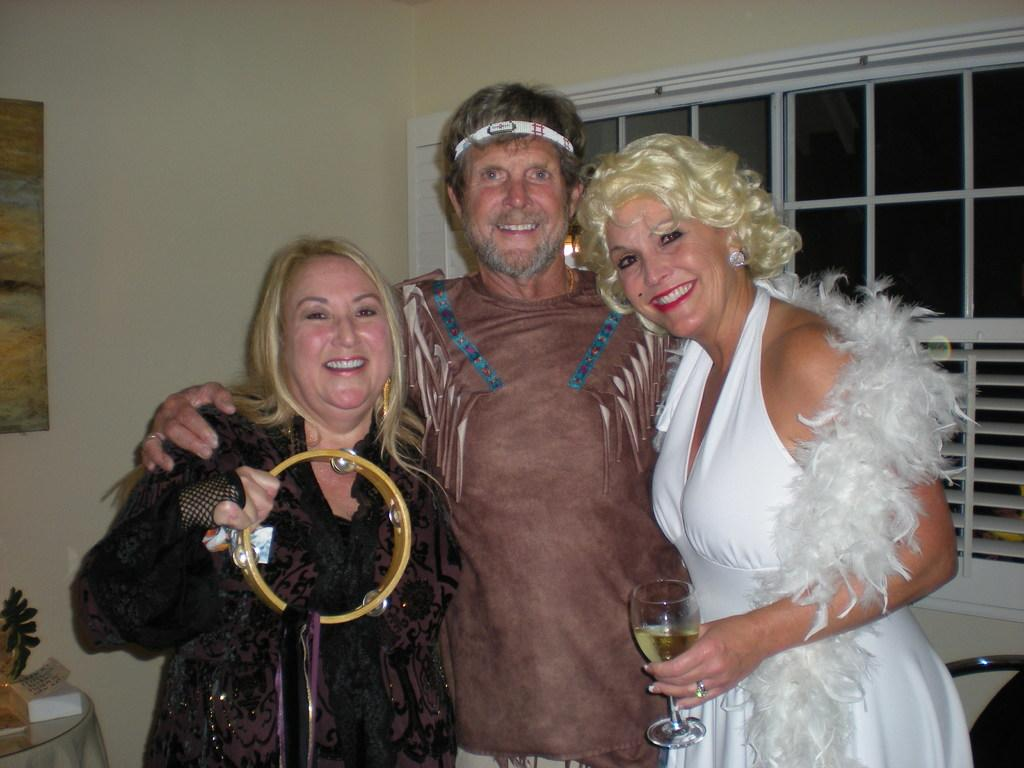Sem Máscara: (441, 92, 589, 271), (274, 230, 395, 413), (593, 163, 723, 333)
